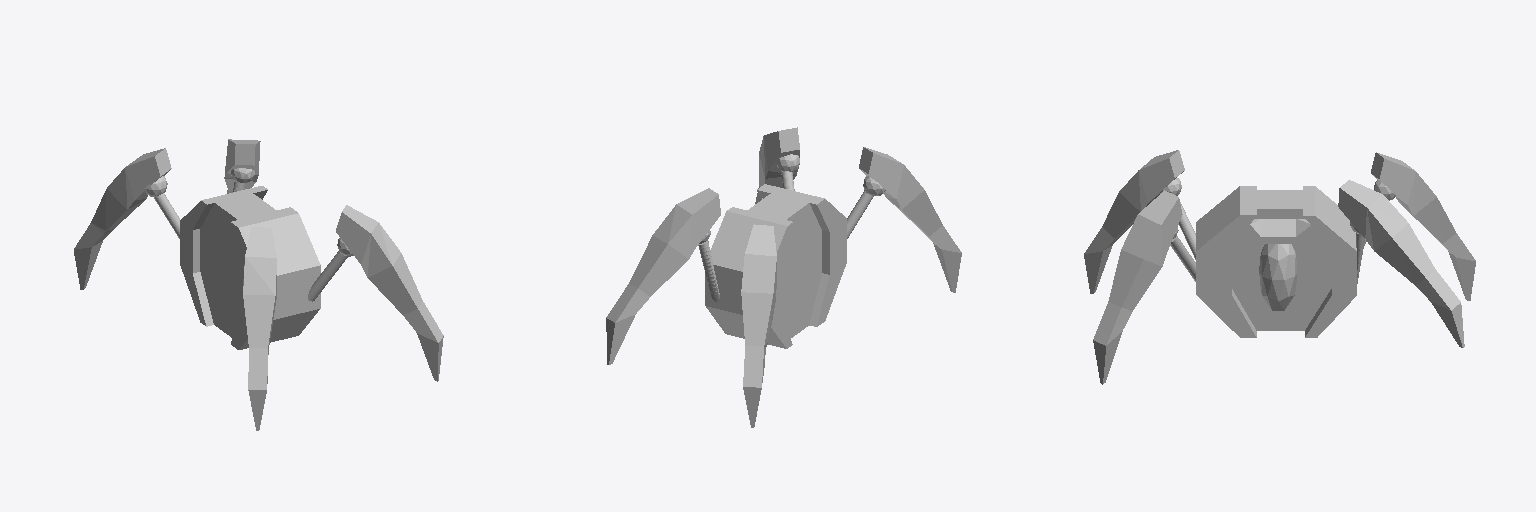
The model's file is robo_000001.obj.
3 renders of one model, left to right at view 1: azimuth 30°, elevation 25°; view 2: azimuth 150°, elevation 25°; view 3: azimuth 270°, elevation 25°, orthographic.
Visible parts, largest first — view 1: Cube; view 2: Cube; view 3: Cube.
Boxes of the visible parts, box(x1,y1,x2,y2) form: Cube: box(74, 139, 443, 430); Cube: box(606, 127, 961, 427); Cube: box(1084, 150, 1475, 384).
Bounding box in the file's own units: 38.13 × 30.11 × 64.24.